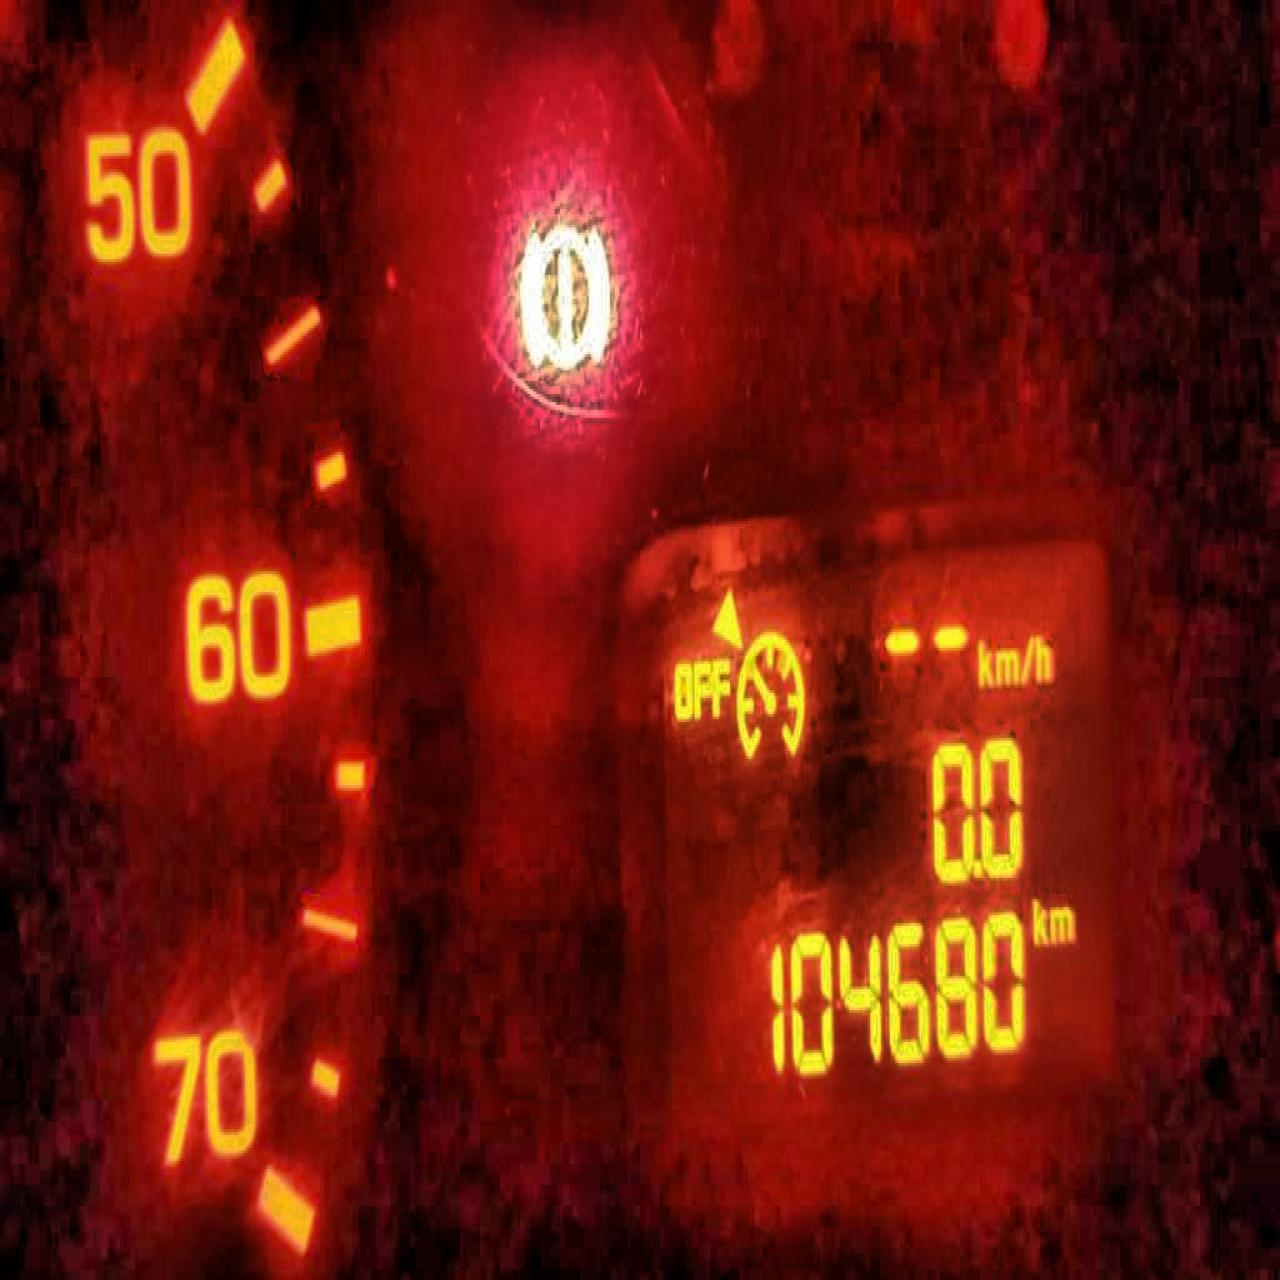-: (972, 855, 983, 880)
0: (789, 926, 835, 1076), (930, 738, 975, 886), (978, 733, 1023, 878), (980, 907, 1024, 1053)
1: (768, 939, 787, 1076)
4: (836, 931, 884, 1068)
6: (884, 918, 931, 1071)
8: (933, 910, 979, 1063)
X: (709, 653, 730, 722), (672, 659, 693, 722), (1048, 903, 1076, 947), (994, 645, 1020, 688), (975, 632, 994, 690), (693, 659, 710, 720), (1034, 629, 1053, 685), (1032, 894, 1049, 952), (1020, 632, 1034, 688)
odometer: (651, 524, 1119, 1145)
